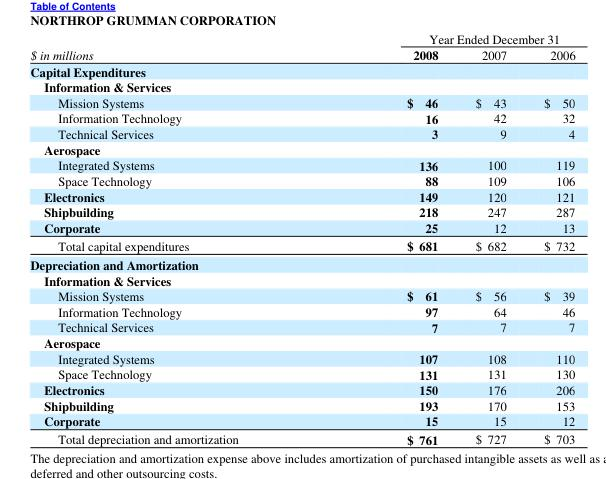table: (29, 29, 574, 447)
table column: (29, 29, 322, 447), (322, 29, 456, 447), (456, 29, 524, 447), (524, 29, 574, 447)
table column header: (29, 29, 574, 62)
table projected row header: (29, 255, 574, 272), (29, 62, 574, 78), (29, 78, 574, 94), (29, 141, 574, 157), (29, 334, 574, 350), (29, 272, 574, 287)
table row: (29, 236, 574, 255), (29, 429, 574, 447), (29, 45, 574, 62), (29, 219, 574, 236), (29, 255, 574, 272), (29, 29, 574, 45), (29, 62, 574, 78), (29, 78, 574, 94), (29, 94, 574, 110), (29, 125, 574, 141), (29, 141, 574, 157), (29, 172, 574, 188), (29, 188, 574, 204), (29, 287, 574, 303), (29, 303, 574, 319), (29, 334, 574, 350), (29, 350, 574, 366), (29, 381, 574, 397), (29, 397, 574, 413), (29, 413, 574, 429), (29, 110, 574, 125), (29, 157, 574, 172), (29, 204, 574, 219), (29, 272, 574, 287), (29, 319, 574, 334), (29, 366, 574, 381)
table spanning cell: (29, 29, 322, 62), (322, 29, 574, 45)
